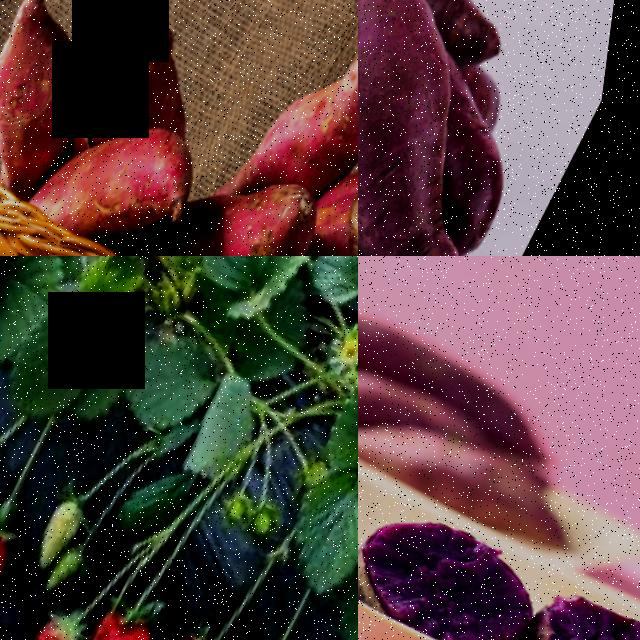strawberry: (87, 588, 182, 640), (0, 506, 33, 606), (32, 602, 104, 640)
sweet potato: (358, 0, 638, 256), (358, 490, 570, 640), (71, 97, 221, 256), (0, 0, 128, 179), (167, 135, 340, 256), (258, 0, 358, 194), (94, 2, 230, 133), (524, 566, 640, 640)
